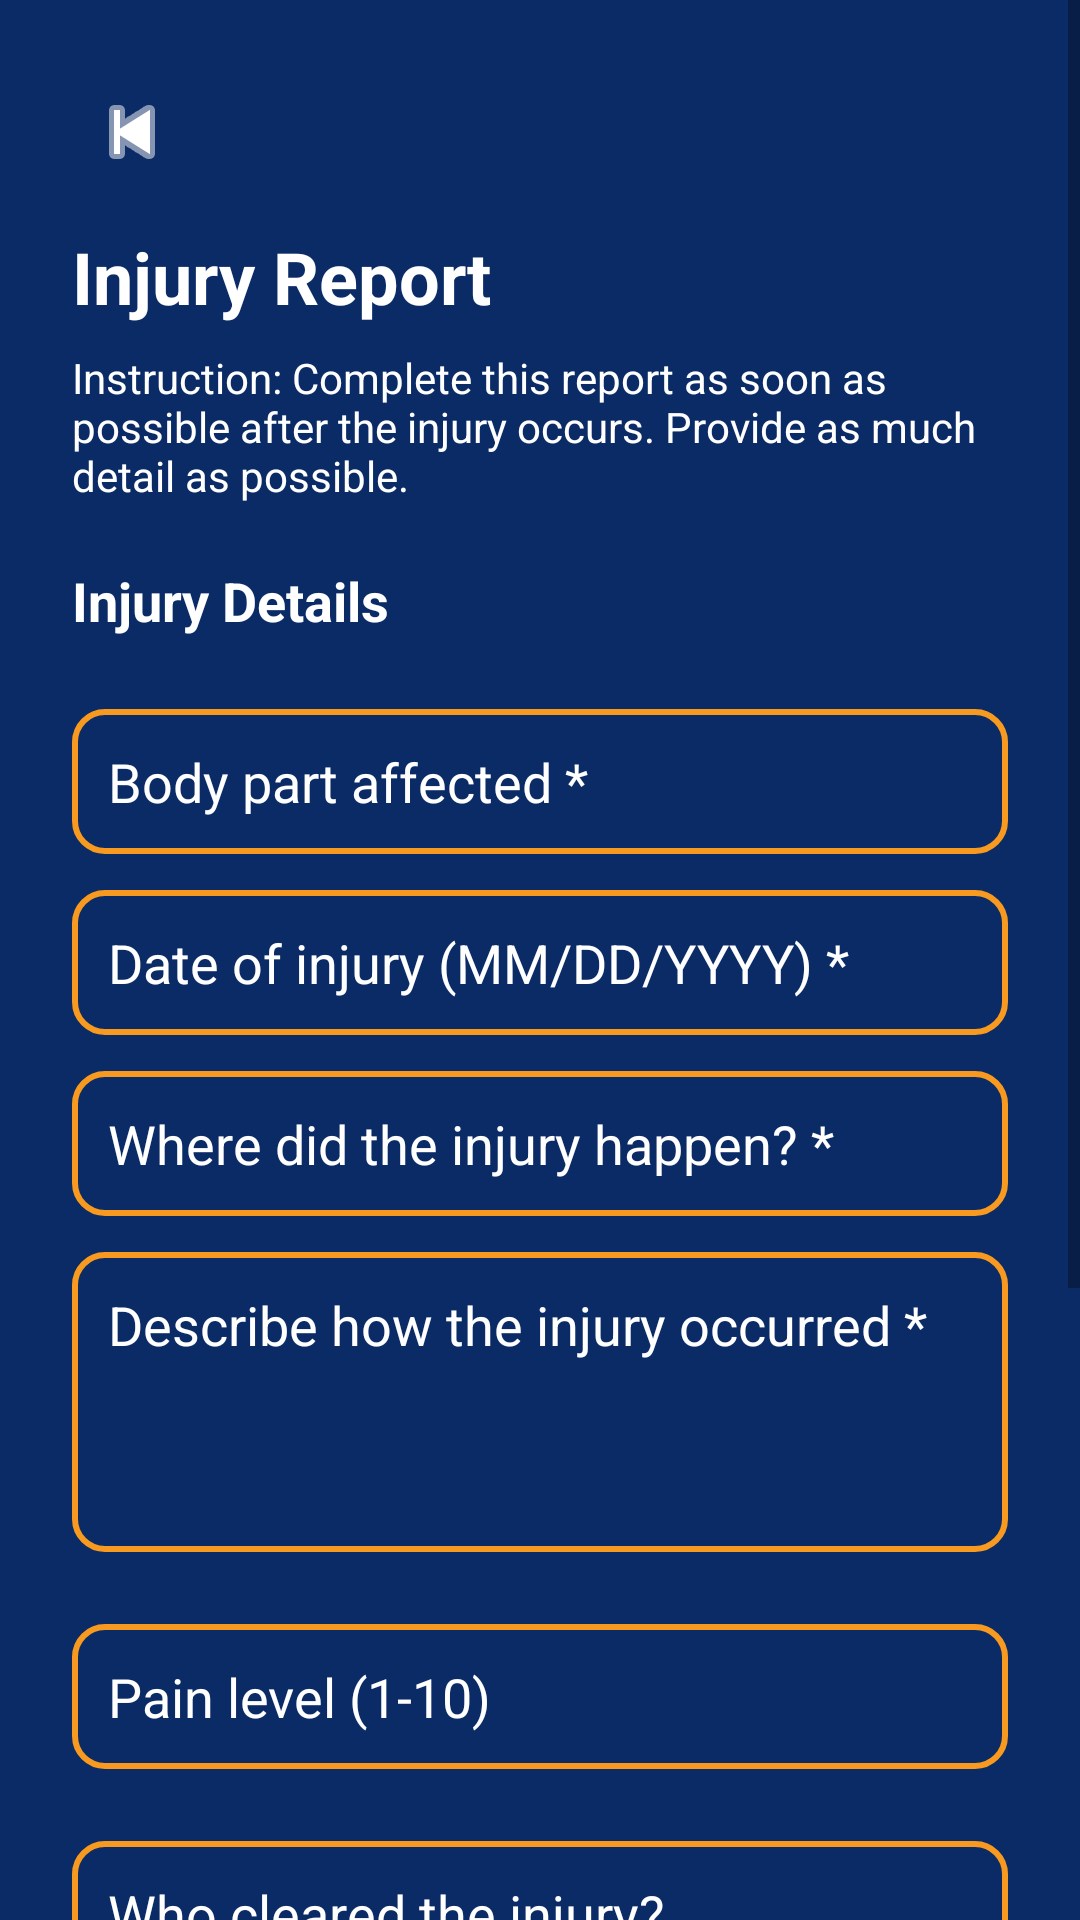

Icons on this 1080×1920 Android screen, each with its box as (x1, y1, x2, y2):
Back: (109, 105, 155, 159)
